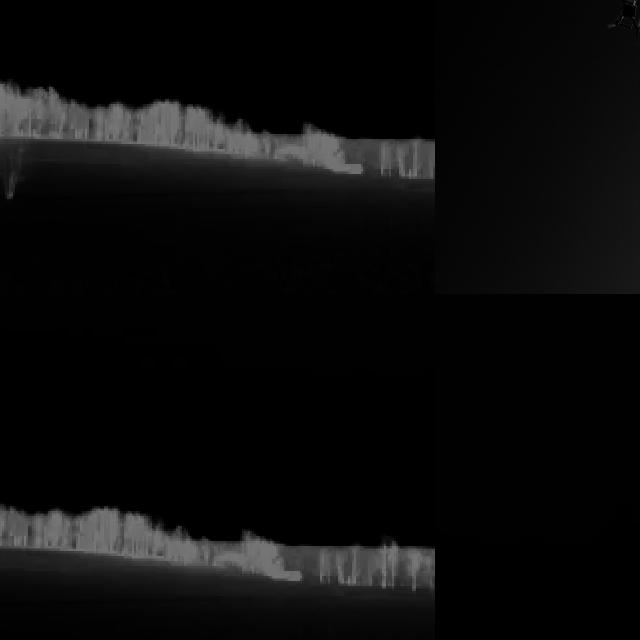drone: (605, 0, 640, 39)
